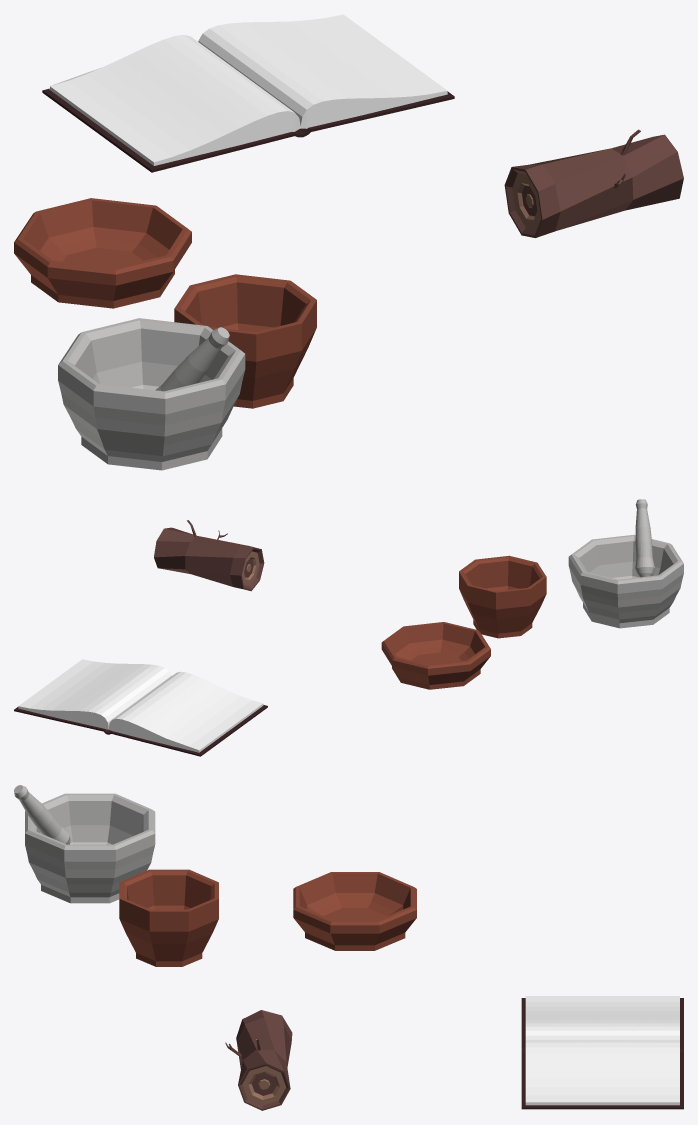
Rendered from AR_retouched.fbx.
The picture shows the model from 3 angles, top to bottom: view 1: azimuth 30°, elevation 25°; view 2: azimuth 150°, elevation 25°; view 3: azimuth 270°, elevation 25°; orthographic projection. The views are drawn at different scales.
Parts seen in each view (by area): view 1: Book, Mortar, Bowl Low, Wood, Bowl High; view 2: Book, Mortar, Bowl High, Bowl Low, Wood; view 3: Book, Mortar, Bowl High, Bowl Low, Wood.
Boxes of the visible parts, x1,y1,x2,y2 form: Book: (42, 14, 454, 172); Mortar: (58, 318, 245, 470); Bowl Low: (14, 198, 191, 308); Wood: (504, 129, 683, 237); Bowl High: (174, 274, 316, 408); Book: (14, 659, 267, 756); Mortar: (568, 499, 683, 628); Bowl High: (459, 555, 546, 638); Bowl Low: (381, 622, 490, 689); Wood: (154, 520, 264, 591); Book: (521, 996, 683, 1109); Mortar: (14, 785, 155, 903); Bowl High: (119, 869, 218, 966); Bowl Low: (293, 872, 416, 950); Wood: (225, 1010, 292, 1110).
Bounding box in the file's own units: 1210 × 268 × 1337.
